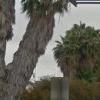Palm tree: (57, 24, 100, 91)
